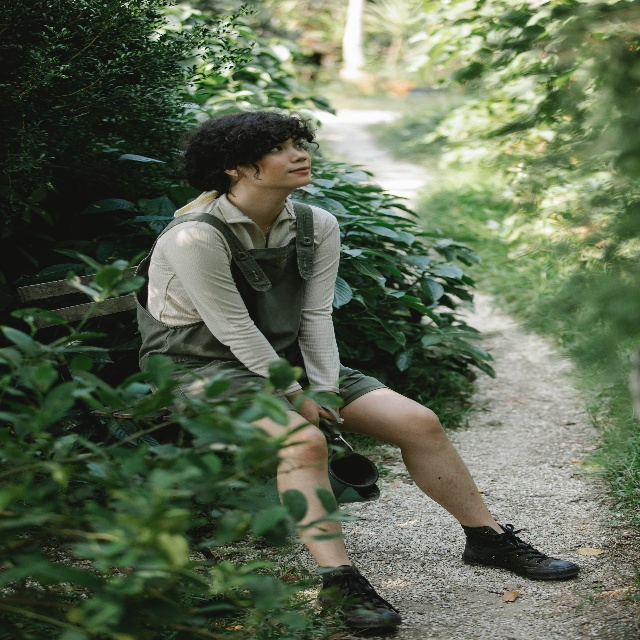Sin_guantes: (293, 392, 344, 428)
